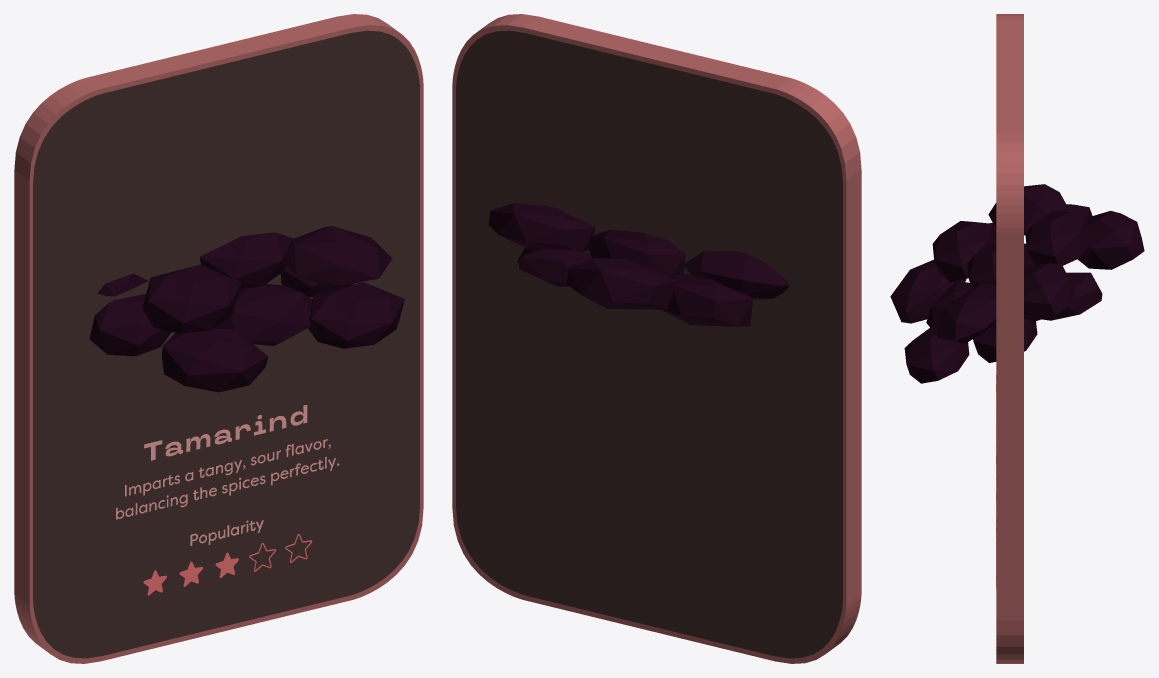
File: Tamarind.gltf
The picture shows the model from 3 angles, left to right: view 1: azimuth 30°, elevation 25°; view 2: azimuth 150°, elevation 25°; view 3: azimuth 270°, elevation 25°; orthographic projection. The views are drawn at different scales.
Parts seen in each view (by area): view 1: Curve.007, Raisin_242, Curve, Text.001, Text; view 2: Curve.007, Curve, Raisin_242; view 3: Raisin_242, Curve.
Boxes of the visible parts, x1=… form: Curve.007: x1=33, y1=30, x2=419, y2=658; Raisin_242: x1=89, y1=226, x2=404, y2=392; Curve: x1=14, y1=14, x2=423, y2=663; Text.001: x1=116, y1=439, x2=339, y2=519; Text: x1=144, y1=405, x2=307, y2=460; Curve.007: x1=456, y1=30, x2=842, y2=658; Curve: x1=452, y1=14, x2=861, y2=663; Raisin_242: x1=488, y1=203, x2=789, y2=326; Raisin_242: x1=890, y1=184, x2=1144, y2=383; Curve: x1=996, y1=14, x2=1023, y2=663.
Bounding box in the file's own units: 3.61 × 5.01 × 2.21.
